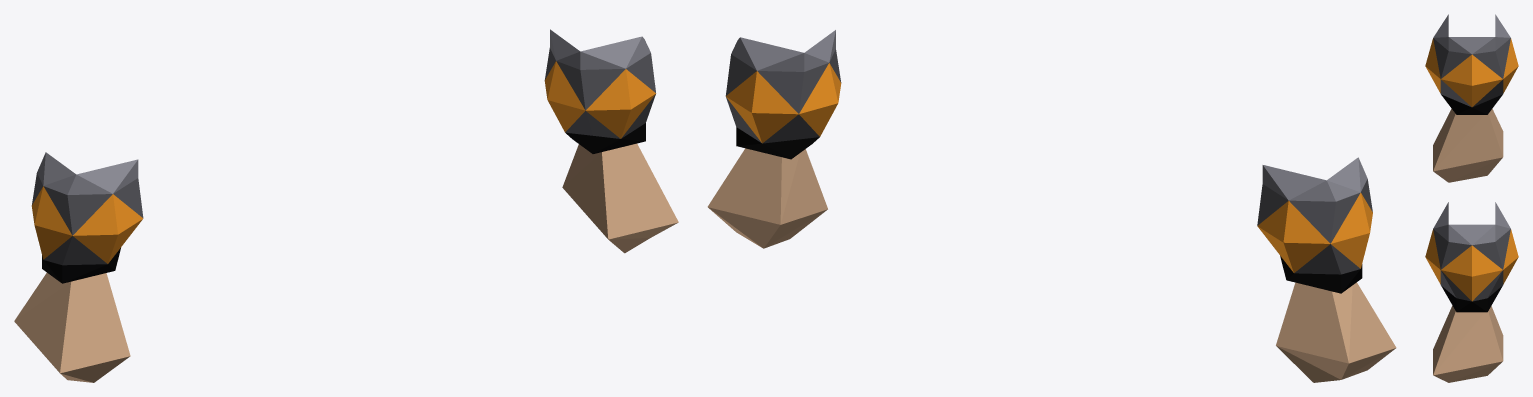
File: player_tormented_bracelet__or_.glb
3 renders of one model, left to right at view 1: azimuth 30°, elevation 25°; view 2: azimuth 150°, elevation 25°; view 3: azimuth 270°, elevation 25°, orthographic. The views are drawn at different scales.
Size of the model in its own units: 69.99 by 23 by 12.
Materials: 1 (1 with a texture image).
